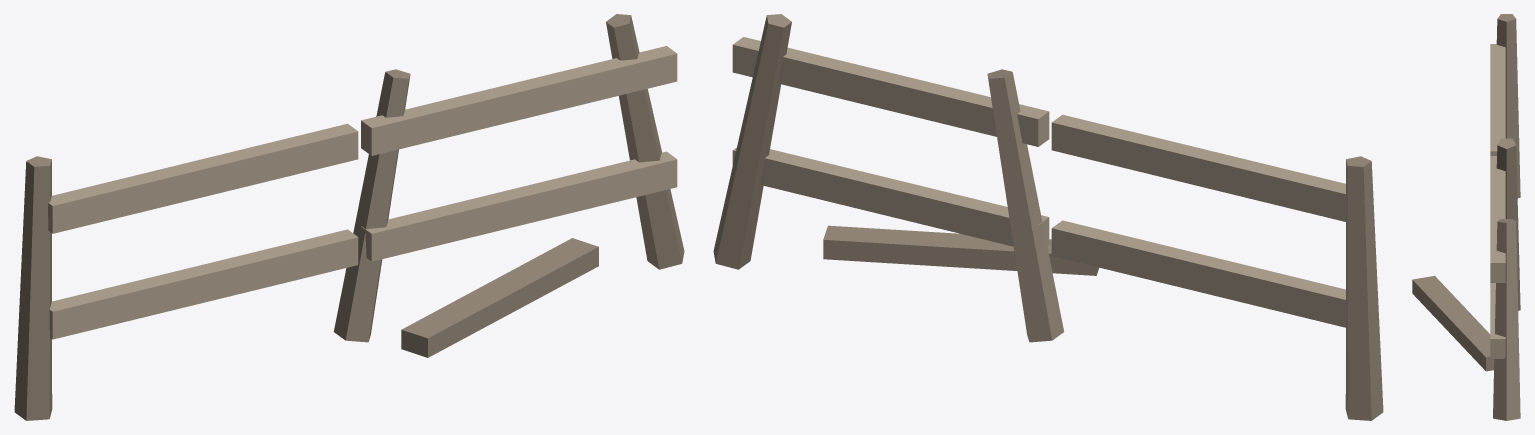
The model's file is leaning_splitrail_fence.glb.
3 renders of one model, left to right at view 1: azimuth 30°, elevation 25°; view 2: azimuth 150°, elevation 25°; view 3: azimuth 270°, elevation 25°, orthographic. The views are drawn at different scales.
Parts seen in each view (by area): view 1: material_01, material_00; view 2: material_01, material_00; view 3: material_00, material_01.
Part boxes in pixels (x1=…): material_01: x1=48, y1=46, x2=677, y2=339; material_00: x1=14, y1=14, x2=684, y2=420; material_01: x1=732, y1=37, x2=1345, y2=327; material_00: x1=713, y1=14, x2=1383, y2=420; material_00: x1=1412, y1=14, x2=1520, y2=420; material_01: x1=1490, y1=44, x2=1505, y2=358.
Bounding box in the file's own units: 2.5 × 0.9211 × 0.4908.
